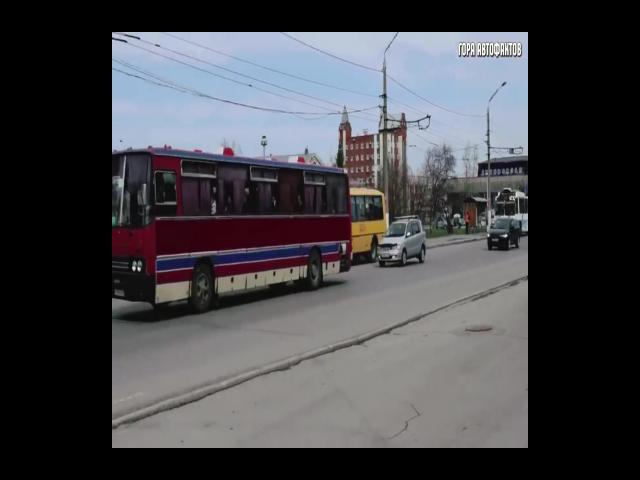bus: (112, 141, 351, 319), (349, 188, 386, 266)
car: (377, 214, 428, 270), (482, 217, 523, 253)
